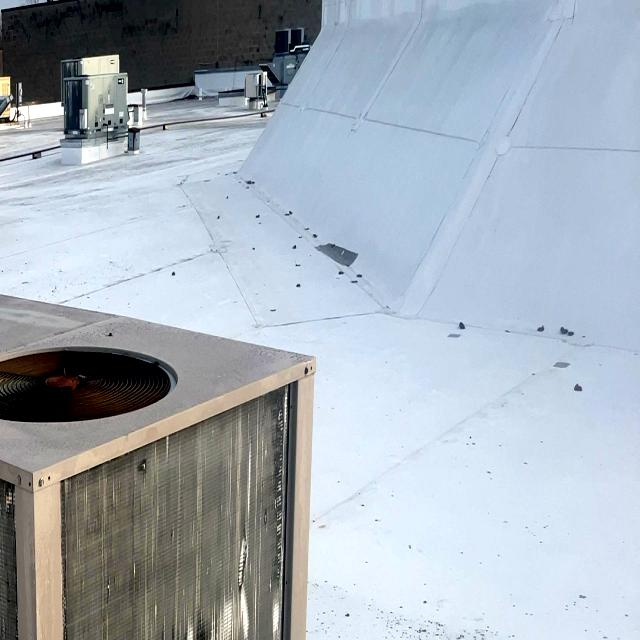RTU: (0, 266, 321, 640), (0, 83, 17, 228)
